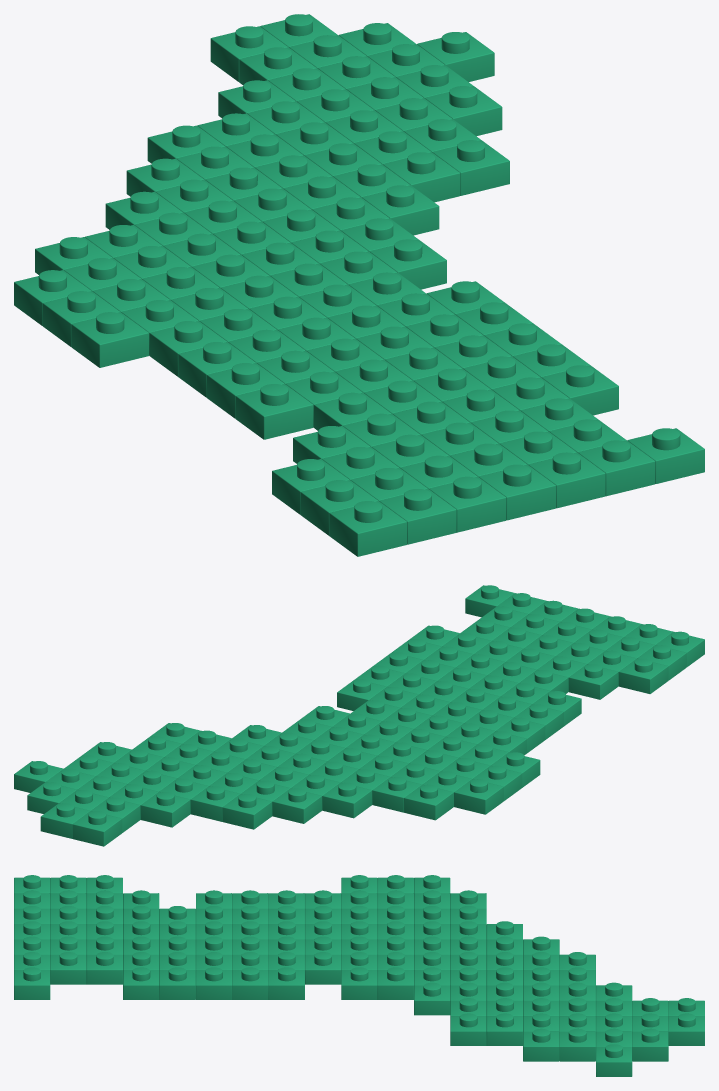
File: Japan.fbx
3 renders of one model, top to bottom at view 1: azimuth 30°, elevation 25°; view 2: azimuth 150°, elevation 25°; view 3: azimuth 270°, elevation 25°, orthographic. The views are drawn at different scales.
Parts seen in each view (by area): view 1: Cylinder_70; view 2: Cylinder_70; view 3: Cylinder_70.
Boxes of the visible parts, x1,y1,x2,y2 form: Cylinder_70: (14, 14, 704, 556); Cylinder_70: (14, 585, 704, 846); Cylinder_70: (14, 875, 704, 1076).
Size of the model in its own units: 1200 by 65.03 by 1900.
